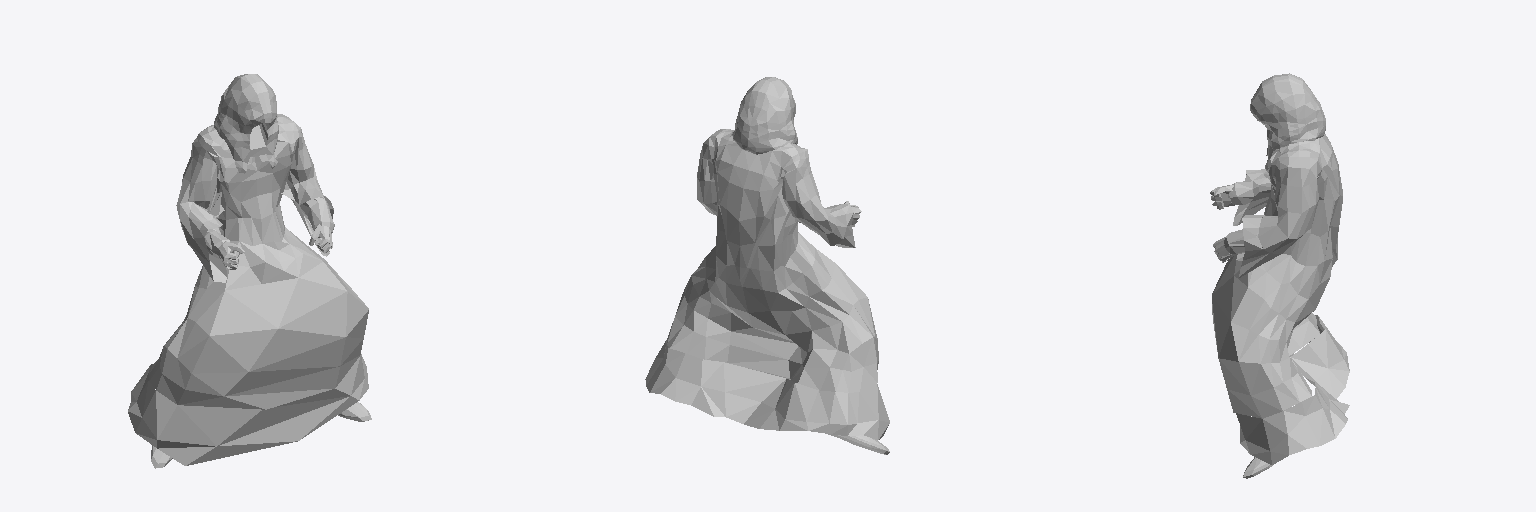
The model's file is Rider_Animate_Grab_Glide_9.obj.
3 renders of one model, left to right at view 1: azimuth 30°, elevation 25°; view 2: azimuth 150°, elevation 25°; view 3: azimuth 270°, elevation 25°, orthographic.
Visible parts, largest first — view 1: dm_nazgulrobe_ride_241108; view 2: dm_nazgulrobe_ride_241108; view 3: dm_nazgulrobe_ride_241108.
Part boxes in pixels (bbox=[...]): dm_nazgulrobe_ride_241108: bbox=[128, 74, 371, 468]; dm_nazgulrobe_ride_241108: bbox=[645, 77, 889, 454]; dm_nazgulrobe_ride_241108: bbox=[1210, 73, 1349, 478].
Size of the model in its own units: 0.4496 by 0.6671 by 0.2365.